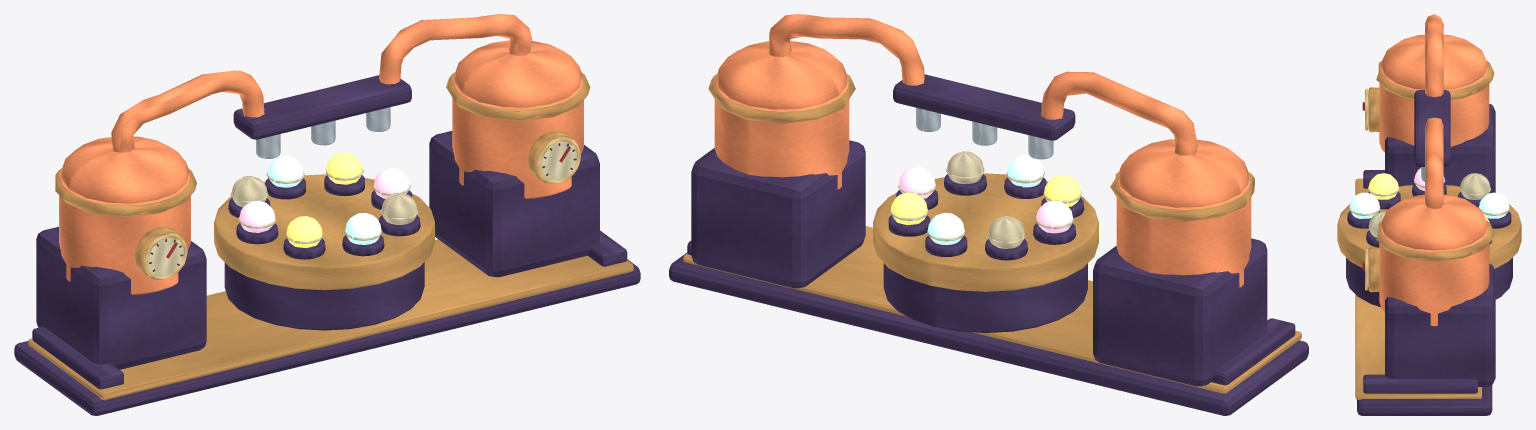
File: Gobstopper-Coating-Carousel.glb
The picture shows the model from 3 angles, left to right: view 1: azimuth 30°, elevation 25°; view 2: azimuth 150°, elevation 25°; view 3: azimuth 270°, elevation 25°; orthographic projection. The views are drawn at different scales.
Parts seen in each view (by area): view 1: Gobstopper-Coating-Carousel | housing, Gobstopper-Coating-Carousel | moving assembly; view 2: Gobstopper-Coating-Carousel | housing, Gobstopper-Coating-Carousel | moving assembly; view 3: Gobstopper-Coating-Carousel | housing, Gobstopper-Coating-Carousel | moving assembly.
Boxes of the visible parts, x1,y1,x2,y2 form: Gobstopper-Coating-Carousel | housing: (14, 14, 640, 415); Gobstopper-Coating-Carousel | moving assembly: (214, 152, 434, 290); Gobstopper-Coating-Carousel | housing: (669, 14, 1308, 415); Gobstopper-Coating-Carousel | moving assembly: (873, 151, 1098, 291); Gobstopper-Coating-Carousel | housing: (1346, 14, 1512, 415); Gobstopper-Coating-Carousel | moving assembly: (1337, 168, 1521, 268).
Bounding box in the file's own units: 5.4 × 2.56 × 1.88.
10 materials, 7 textured.
